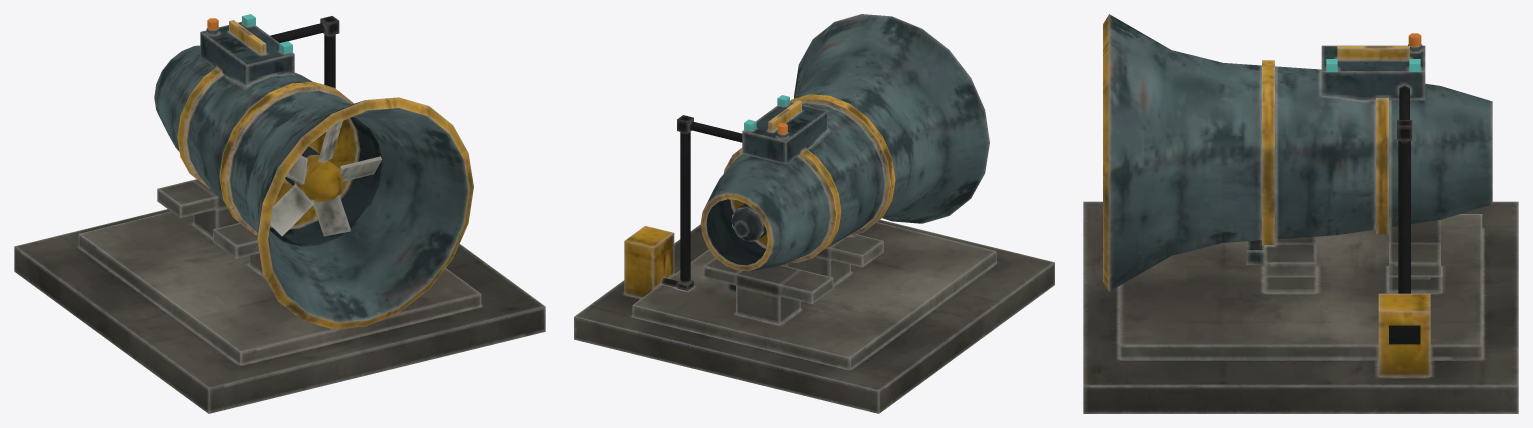
File: tidal_generator.glb
3 views of the same model, side by side, from view 1: azimuth 30°, elevation 25°; view 2: azimuth 150°, elevation 25°; view 3: azimuth 270°, elevation 25° (orthographic). The views are drawn at different scales.
Parts seen in each view (by area): view 1: te_tidal_generator, move_rotor; view 2: te_tidal_generator; view 3: te_tidal_generator.
Part boxes in pixels (x1,y1,x2,y2): te_tidal_generator: (14,14,545,413); move_rotor: (270,121,381,236); te_tidal_generator: (574,14,1054,413); te_tidal_generator: (1083,14,1518,413).
Size of the model in its own units: 0.84 by 0.63 by 0.84.
Materials: 1 (1 with a texture image).
